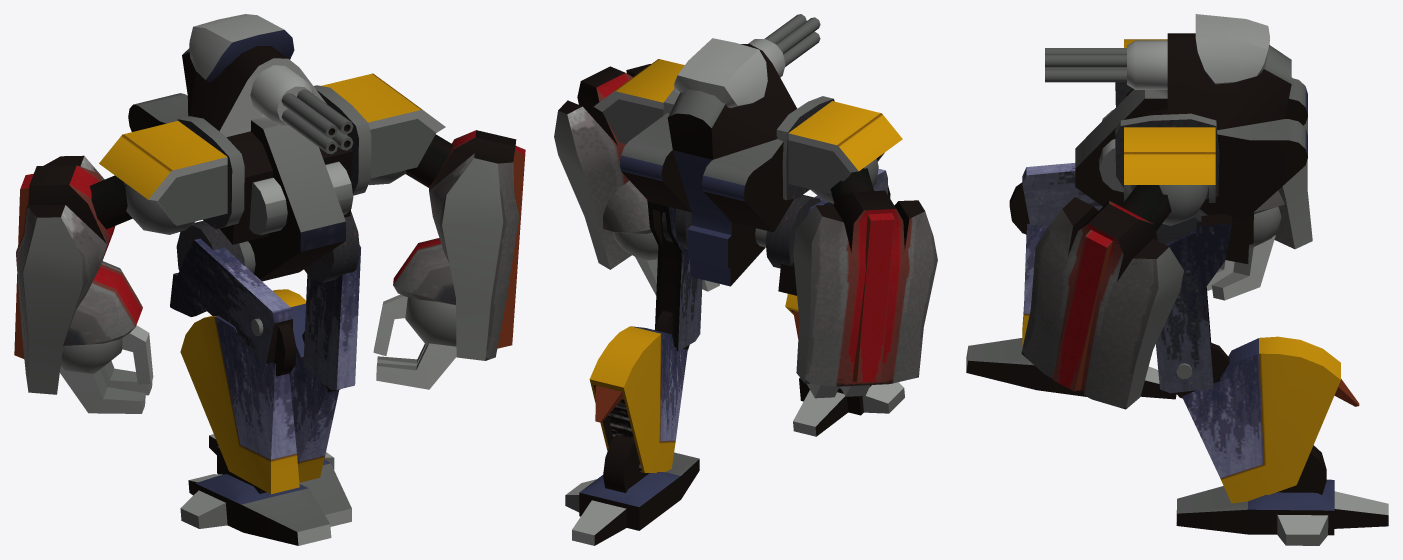
Rendered from npc_sec2bot_000027.obj.
3 views of the same model, side by side, from view 1: azimuth 30°, elevation 25°; view 2: azimuth 150°, elevation 25°; view 3: azimuth 270°, elevation 25° (orthographic). The views are drawn at different scales.
Parts seen in each view (by area): view 1: npc_sec2bot_npc_sec2bot_meshdata; view 2: npc_sec2bot_npc_sec2bot_meshdata; view 3: npc_sec2bot_npc_sec2bot_meshdata.
Boxes of the visible parts, bbox=[...] form: npc_sec2bot_npc_sec2bot_meshdata: bbox=[14, 14, 525, 545]; npc_sec2bot_npc_sec2bot_meshdata: bbox=[554, 14, 937, 545]; npc_sec2bot_npc_sec2bot_meshdata: bbox=[966, 14, 1388, 545].
Bounding box in the file's own units: 2.21 × 2.33 × 1.92.
